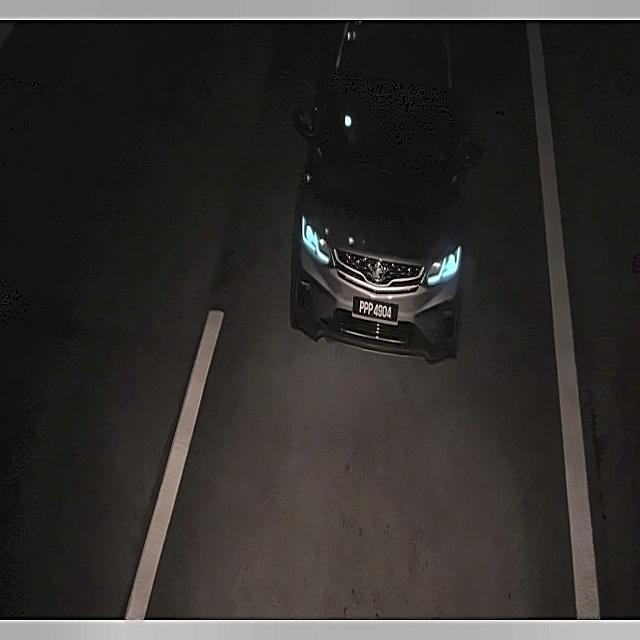car: (351, 292, 402, 330)
